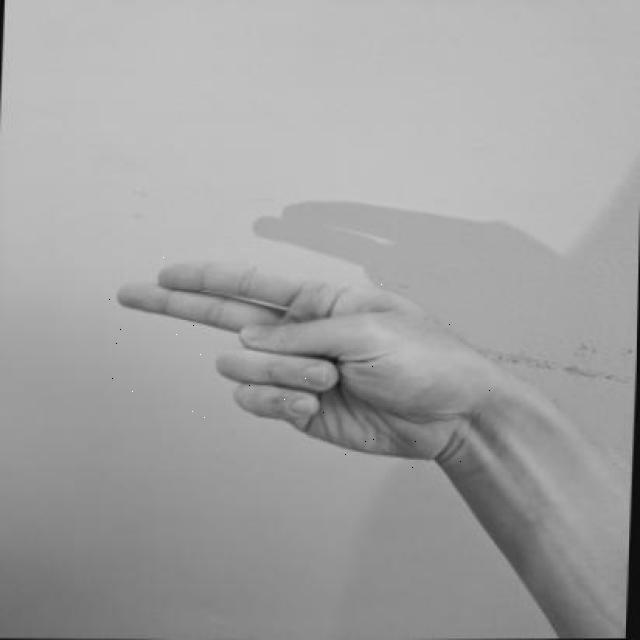H: (102, 252, 492, 468)
